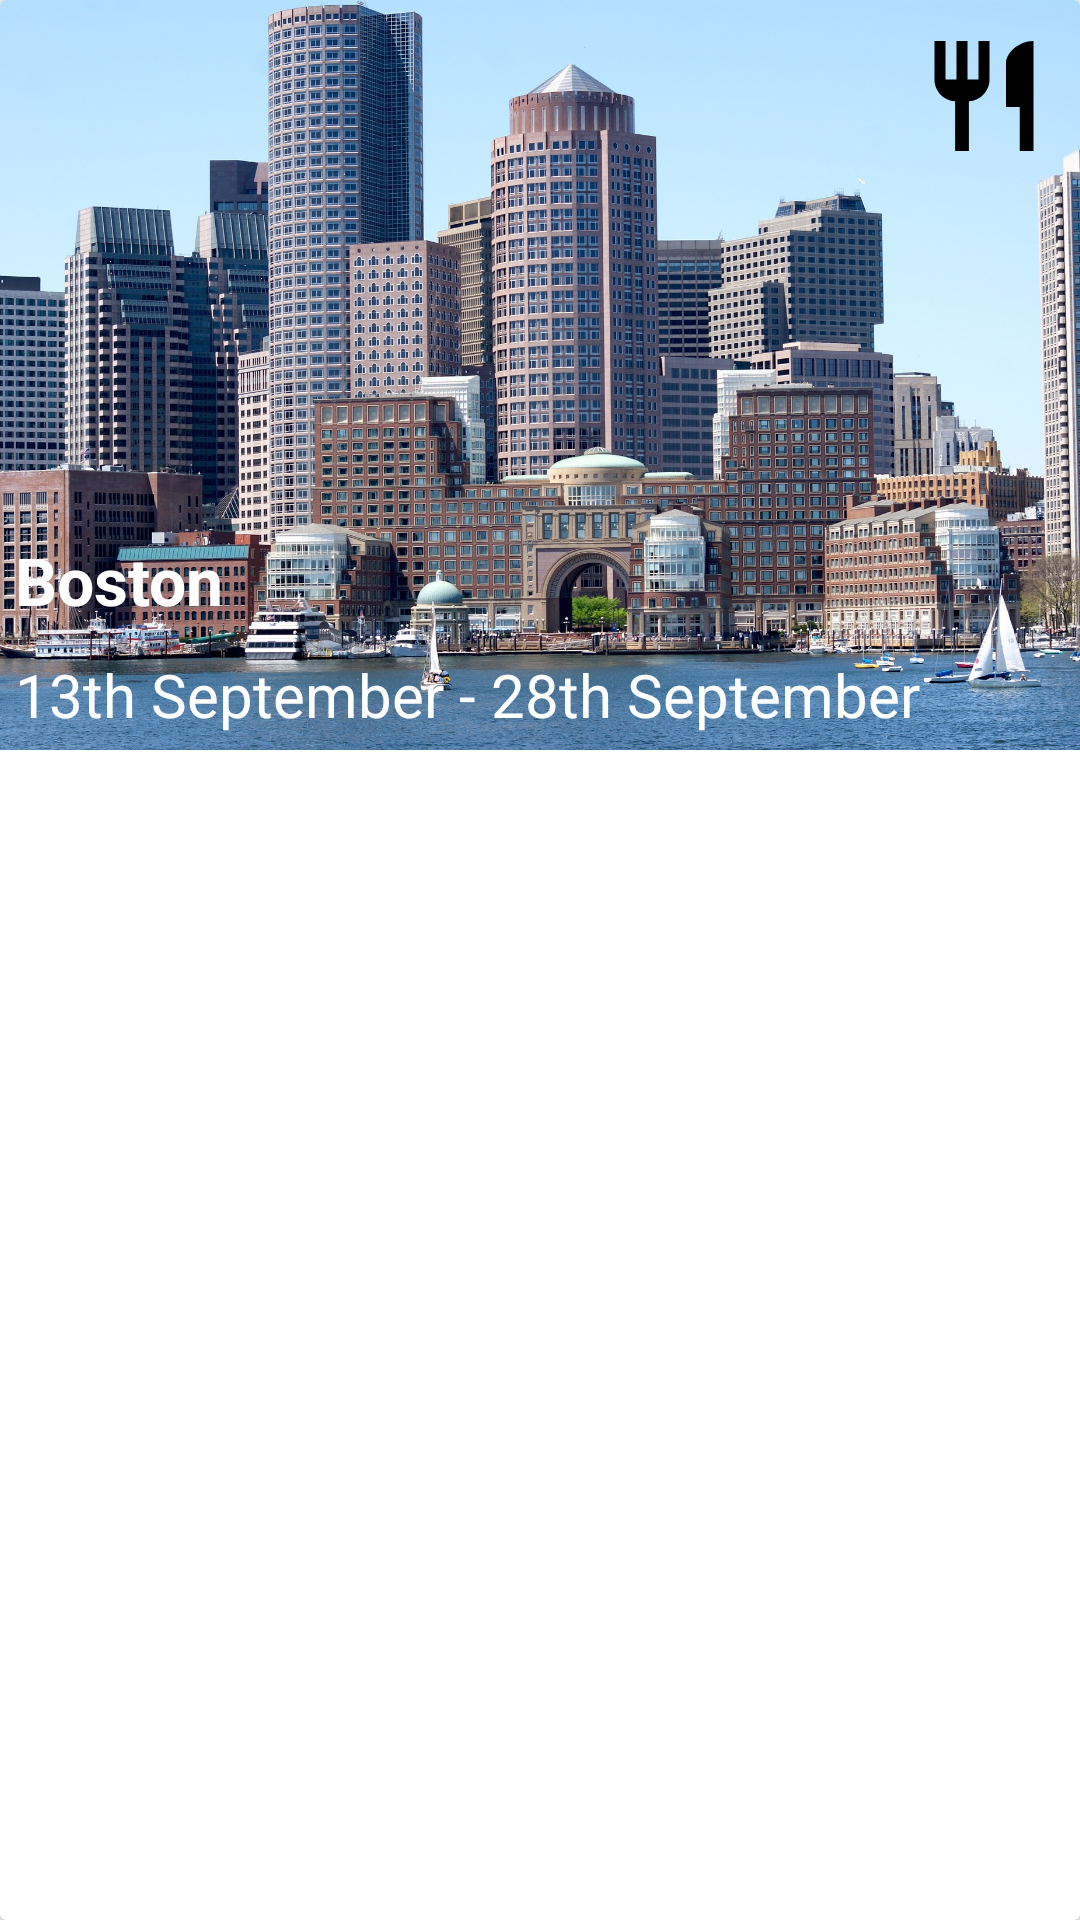

Screen size 1080x1920. Icon name, then its center in pixels as point (x, y):
restaurant: point (984, 96)
